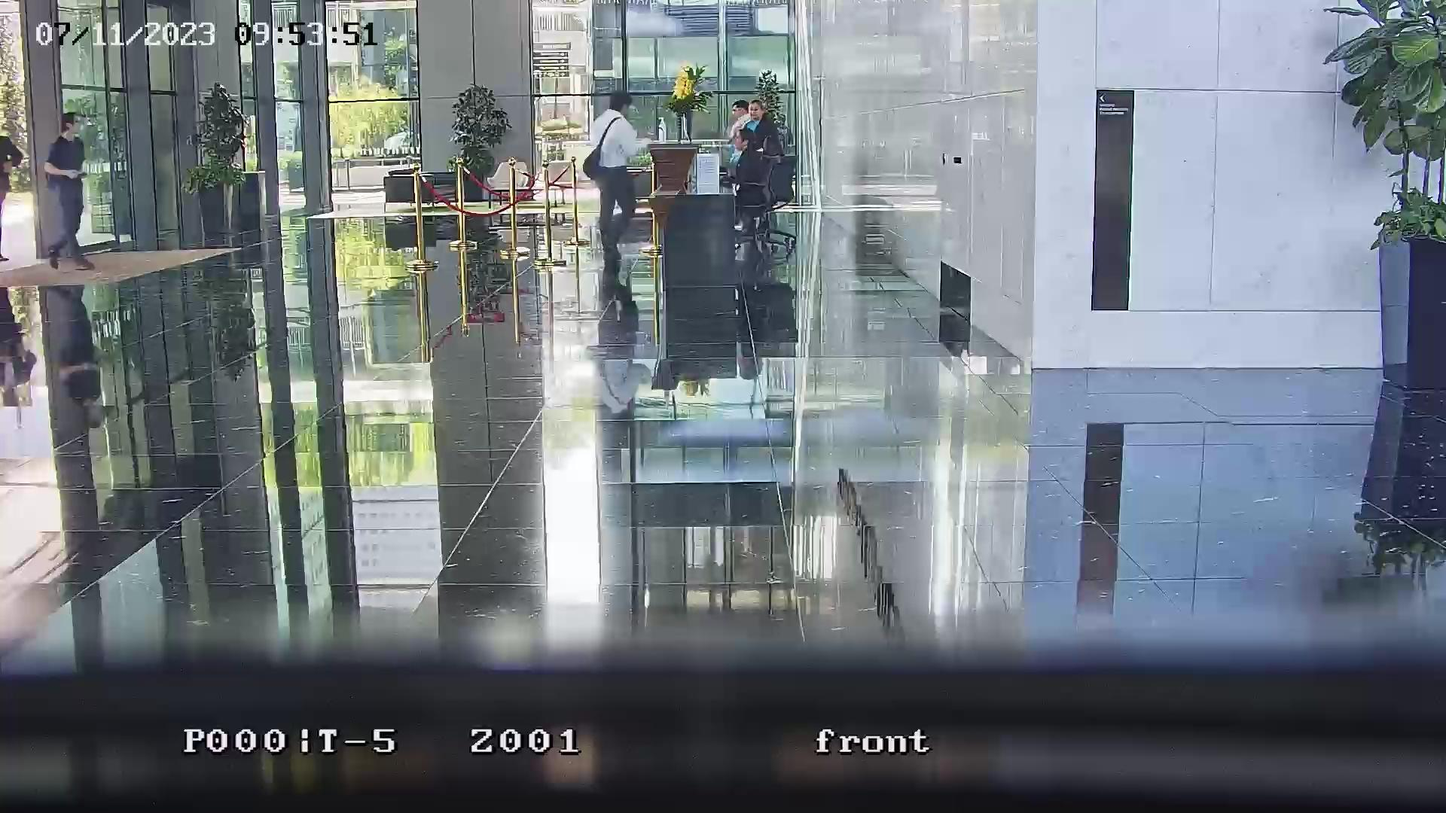person: (584, 91, 652, 256), (42, 111, 96, 271), (0, 129, 26, 261), (726, 128, 764, 205), (741, 99, 774, 157), (728, 99, 751, 137)
